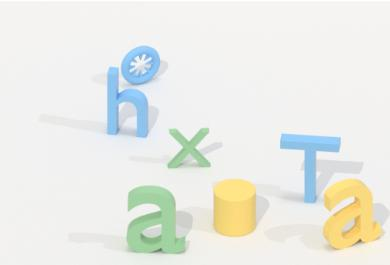0-KhoiTru: (211, 176, 261, 240)
0-TronLo: (122, 42, 161, 86)
T: (276, 127, 342, 206)
X: (162, 121, 215, 174)
a: (122, 182, 193, 258), (320, 174, 384, 255)
